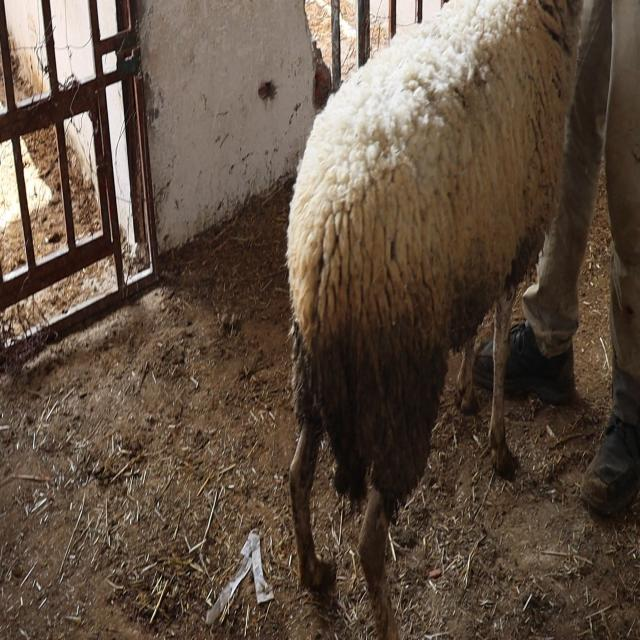Score_4: (286, 0, 581, 639)
